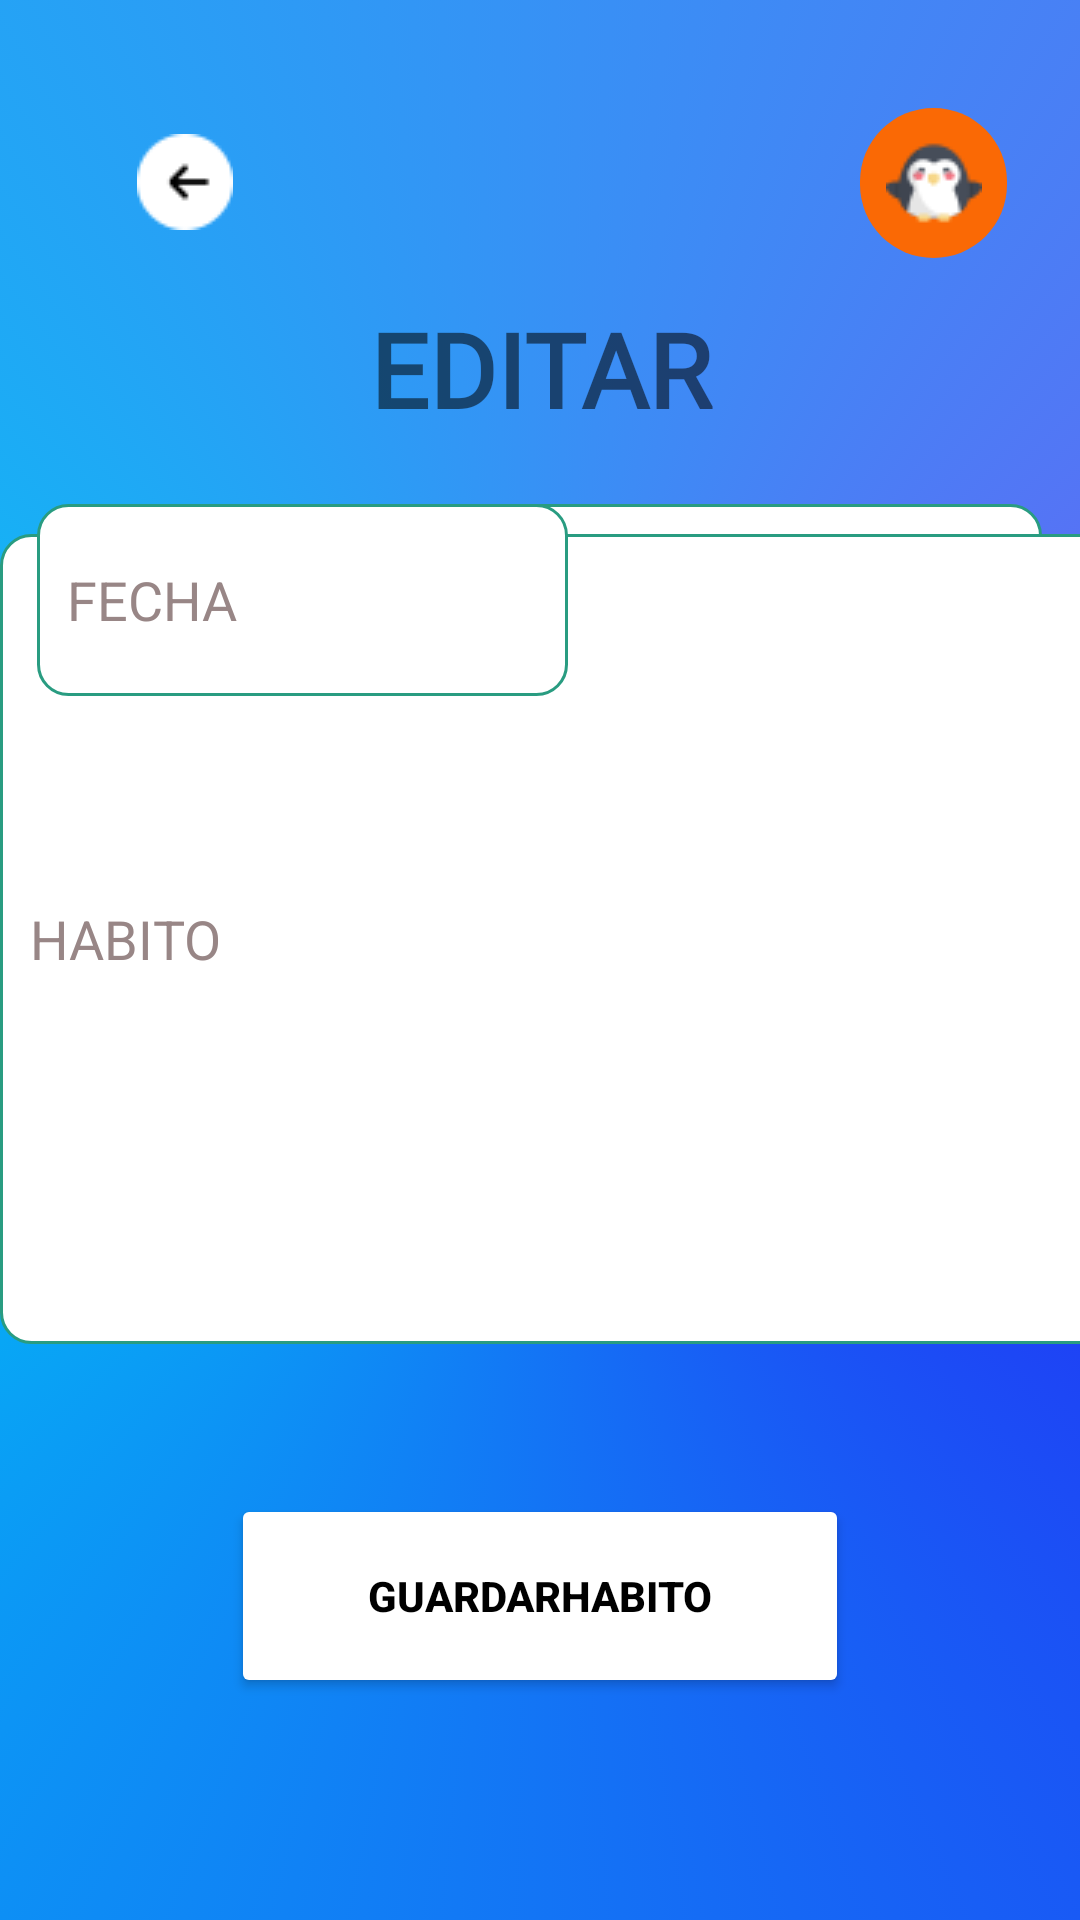

Point at icon controls on the screen. Image size 1080*1920, points as (x=x, y=y).
atras: (x=185, y=182)
pinguinopeque: (x=933, y=183)
